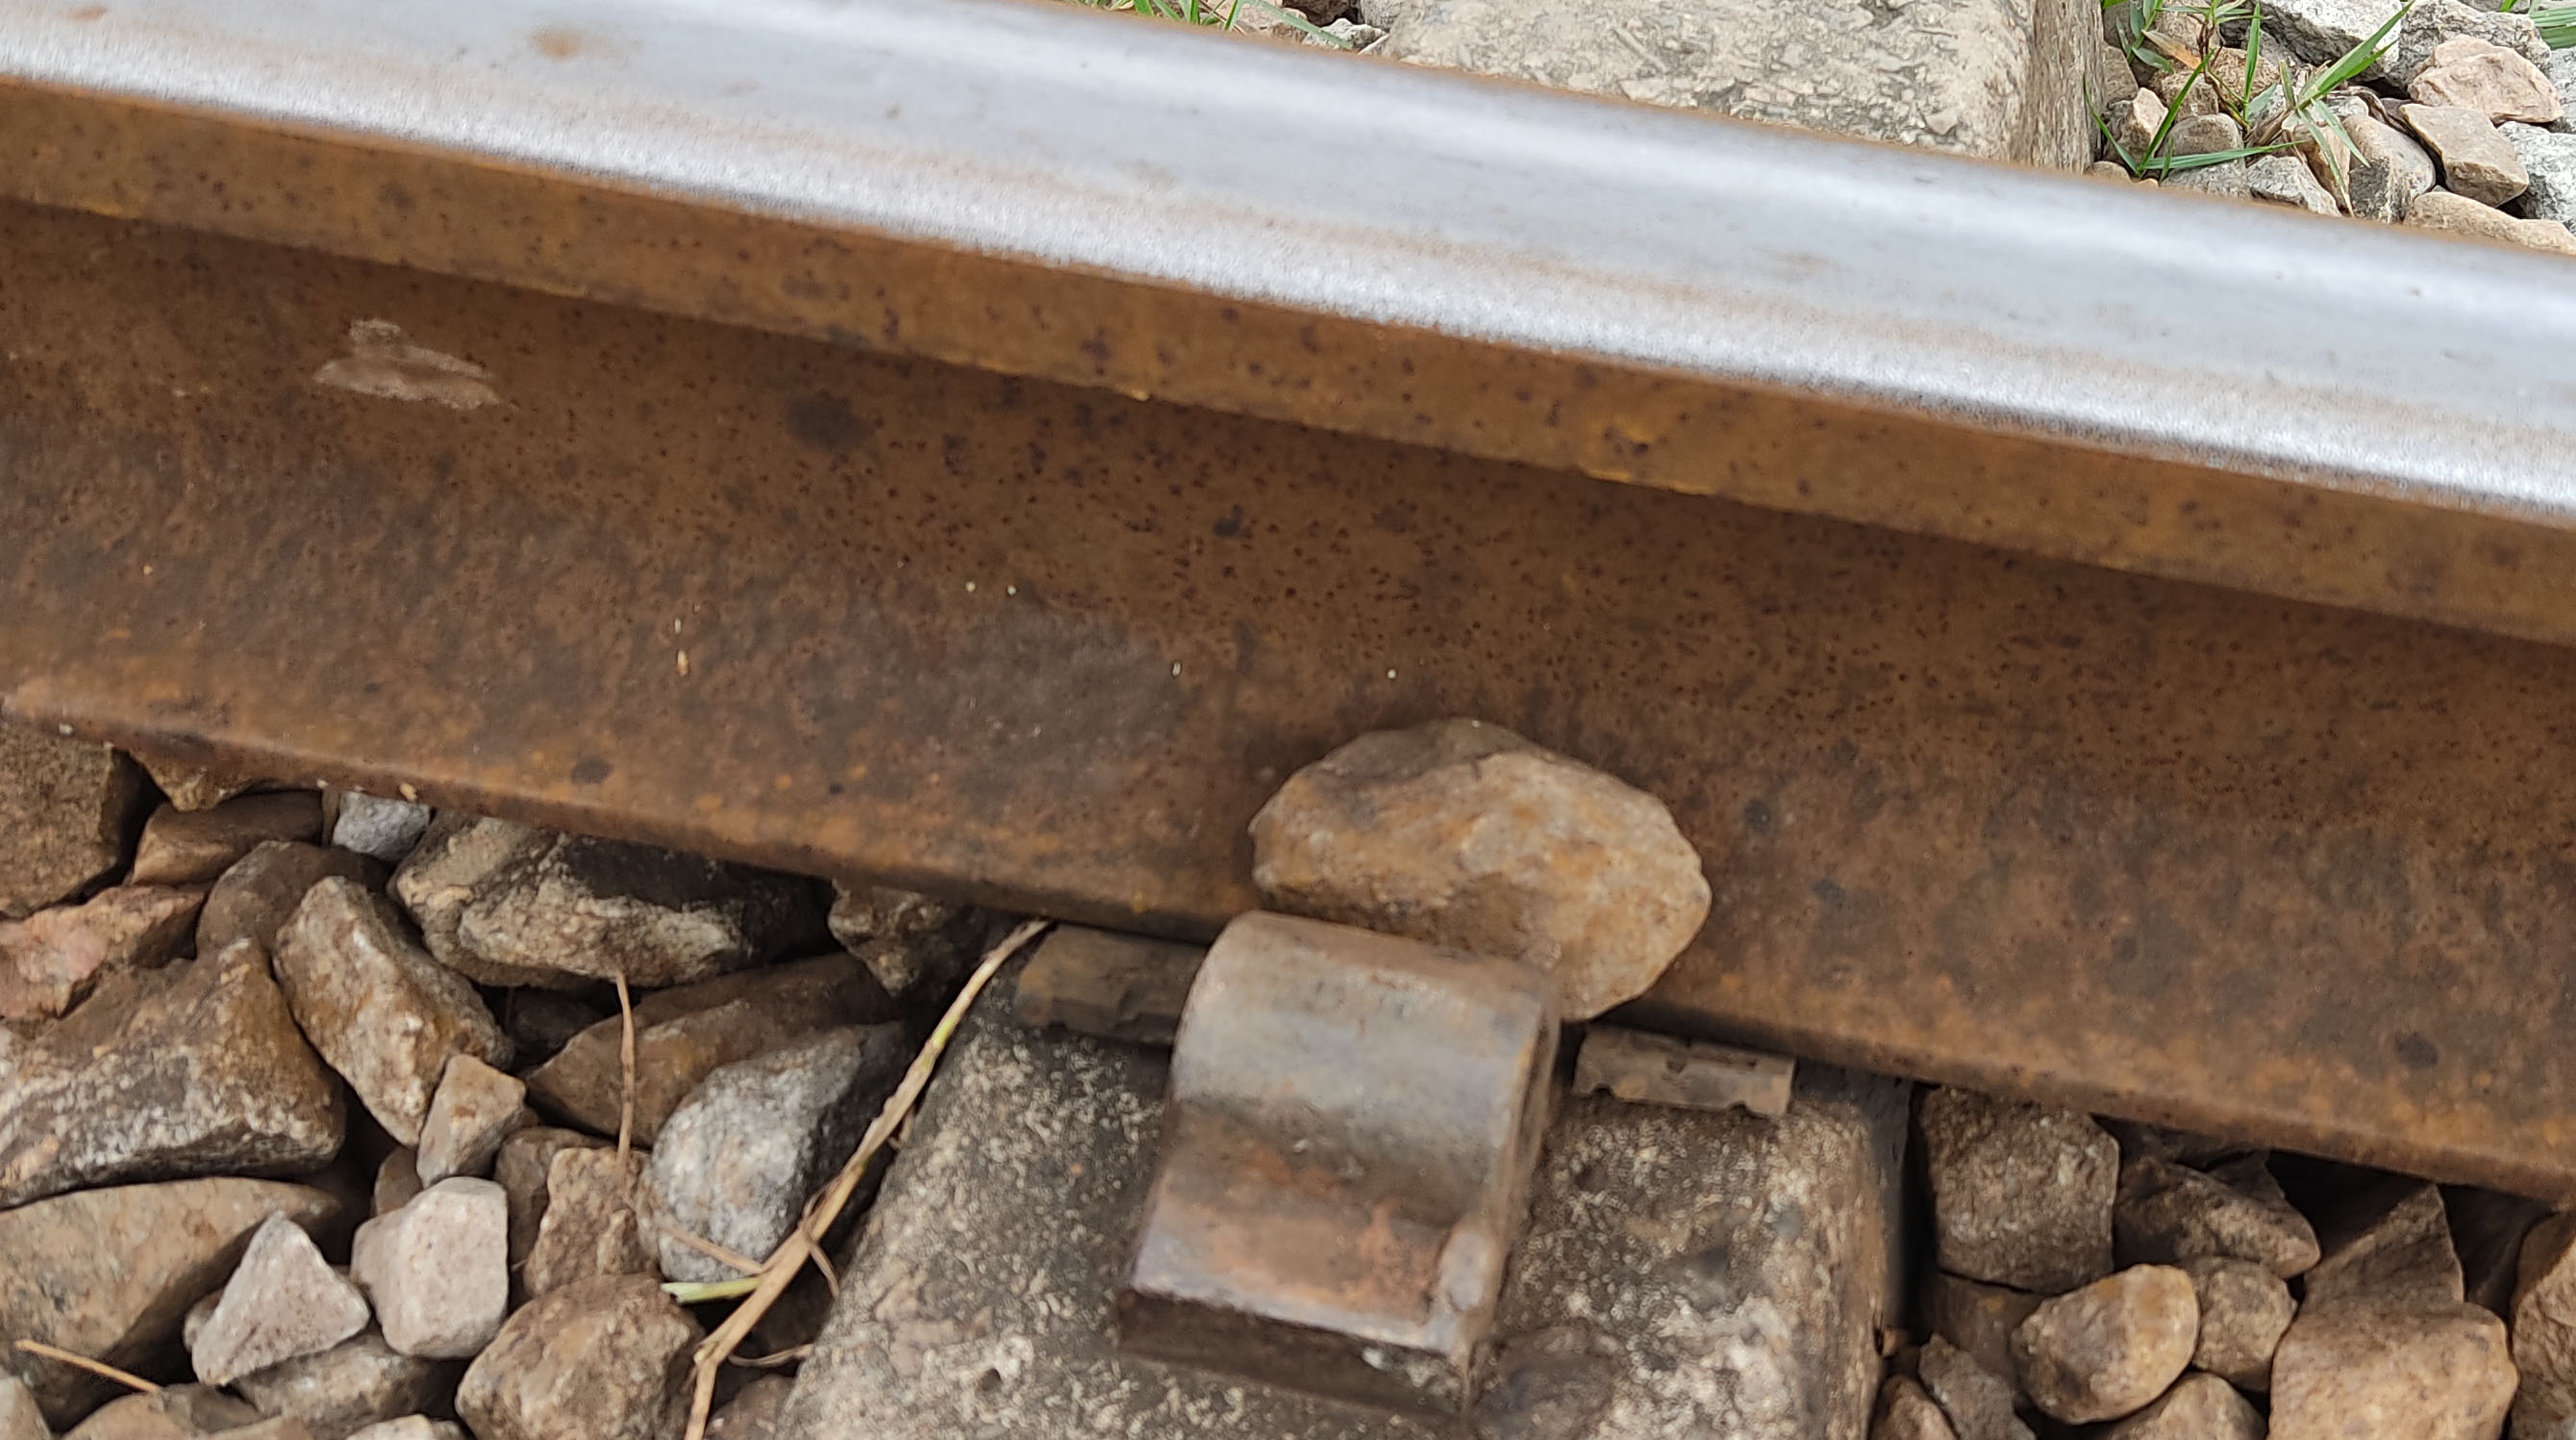error1: (1097, 780, 1729, 1360)
